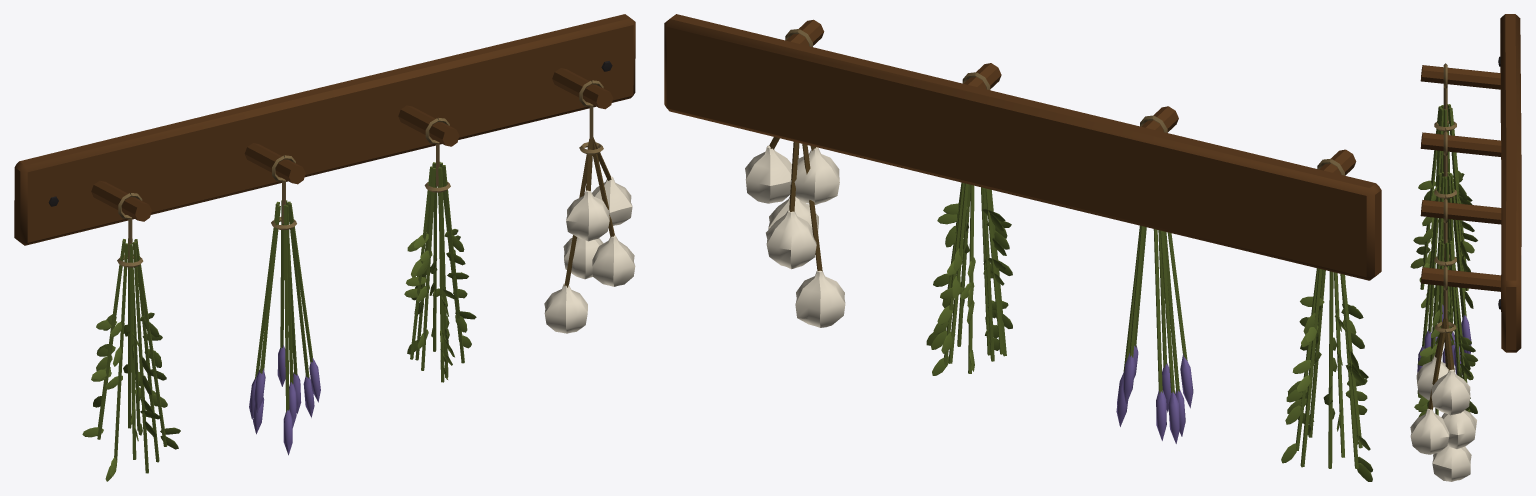
The model's file is kraeuterbuendel.glb.
3 renders of one model, left to right at view 1: azimuth 30°, elevation 25°; view 2: azimuth 150°, elevation 25°; view 3: azimuth 270°, elevation 25°, orthographic. The views are drawn at different scales.
Parts seen in each view (by area): view 1: kraeuterbuendel; view 2: kraeuterbuendel; view 3: kraeuterbuendel.
Boxes of the visible parts, x1,y1,x2,y2 form: kraeuterbuendel: (14, 14, 635, 481); kraeuterbuendel: (664, 14, 1381, 481); kraeuterbuendel: (1410, 14, 1521, 481).
Size of the model in its own units: 0.801 by 0.3829 by 0.1395.
